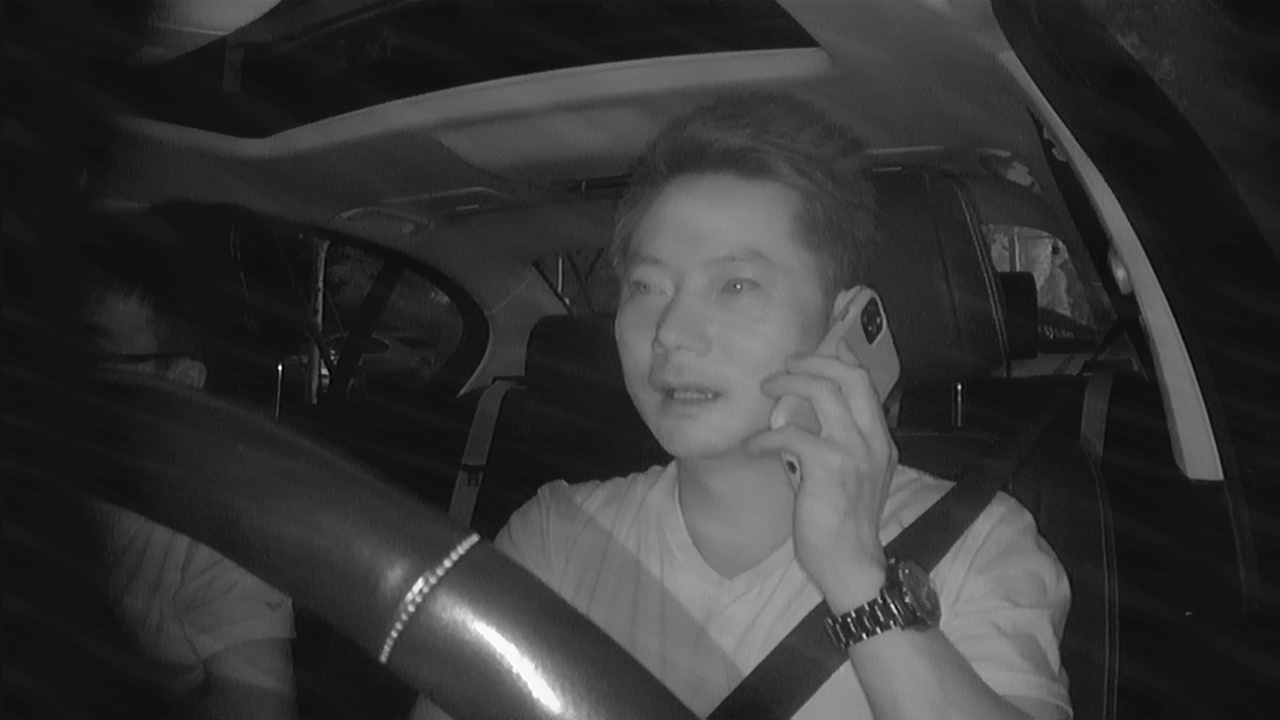hand: (755, 342, 904, 567)
